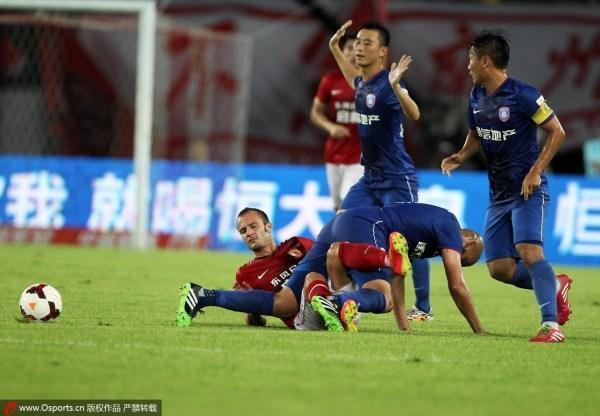Fall-Detected: (182, 197, 477, 333)
